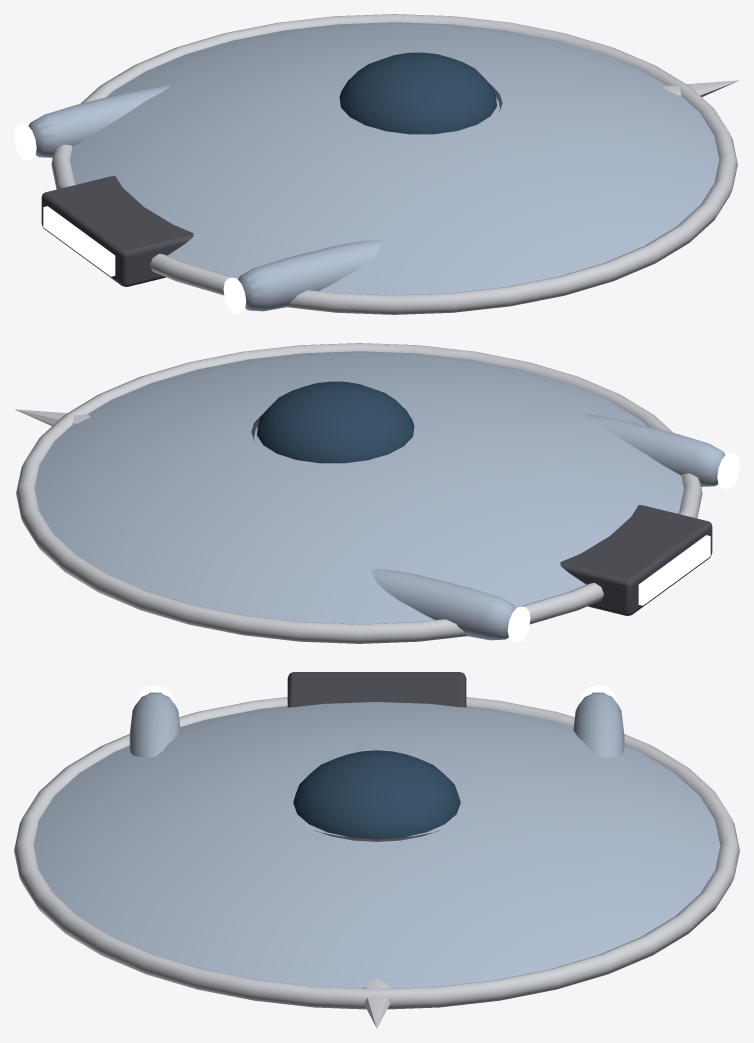
Rendered from saucer_medium.glb.
3 renders of one model, top to bottom at view 1: azimuth 30°, elevation 25°; view 2: azimuth 150°, elevation 25°; view 3: azimuth 270°, elevation 25°, orthographic. The views are drawn at different scales.
Parts seen in each view (by area): view 1: saucer_medium; view 2: saucer_medium; view 3: saucer_medium.
Part boxes in pixels (x1,y1,x2,y2): saucer_medium: (14, 14, 738, 314); saucer_medium: (15, 343, 739, 643); saucer_medium: (14, 672, 739, 1028).
Bounding box in the file's own units: 1.5 × 0.3212 × 1.35.
